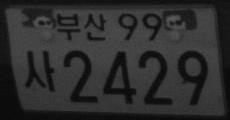2: (137, 49, 174, 106), (62, 49, 99, 104)
4: (102, 49, 138, 105)
9: (177, 49, 209, 106), (117, 11, 139, 41), (141, 11, 163, 41)
부산_H: (56, 12, 108, 41)
사: (24, 49, 57, 94)
